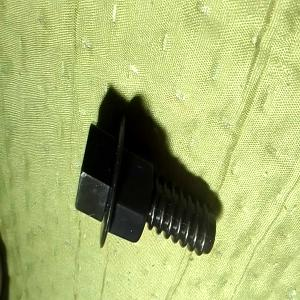parafuso: (75, 114, 217, 258)
